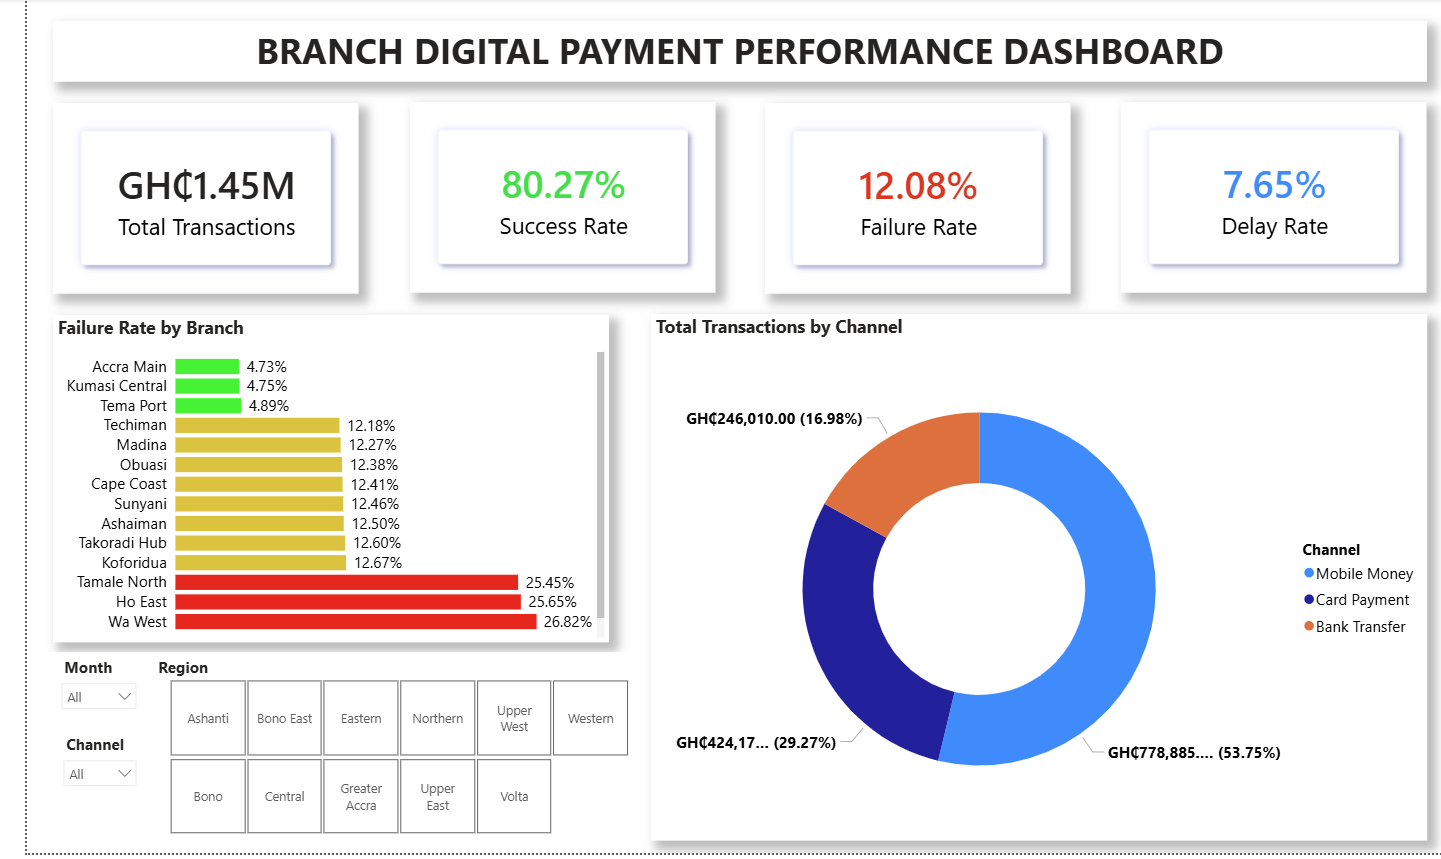

What the dashboard file says about the page in this screenshot:
{"tool":"powerbi","page":{"name":"Executive Overview","canvas":[1500,900],"ordinal":0},"visuals":[{"type":"cardVisual","fields":{"Data":["_Measures.Total Transactions"]},"box":[27.4,109.3,322.3,200.5],"z":0,"group":"g1"},{"type":"clusteredBarChart","fields":{"Category":["Raw Data.Branch"],"Y":["_Measures.Failure Rate"]},"box":[27.5,332.8,586.2,344.9],"z":0},{"type":"textbox","box":[27.4,23.2,1448,64.3],"z":1000},{"type":"cardVisual","fields":{"Data":["_Measures.Success Rate"]},"box":[403.2,108.5,322.3,200.5],"z":1000,"group":"g1"},{"type":"slicer","fields":{"Values":["Date Table.Month Name"]},"box":[26.3,688.2,99.2,81],"z":2000},{"type":"cardVisual","fields":{"Data":["_Measures.Failure Rate"]},"box":[777.2,109.3,322.3,200.5],"z":3000,"group":"g1"},{"type":"slicer","fields":{"Values":["Raw Data.Region"]},"box":[125.4,688.2,532.2,198.1],"z":3000},{"type":"slicer","fields":{"Values":["Raw Data.Channel"]},"box":[28.3,769.1,97.2,72.9],"z":4000},{"type":"cardVisual","fields":{"Data":["_Measures.Delay Rate"]},"box":[1153.1,108.5,322.3,200.5],"z":5000,"group":"g1"},{"type":"donutChart","fields":{"Category":["Channel Summary.Channel"],"Y":["_Measures.Total Transactions"]},"box":[657.8,331.9,817.7,554.6],"z":5000},{"type":"group","id":"g1","title":"Group 1","box":[27.4,108.5,1448,201.3],"z":6000}]}

Visuals, with their boxes in screenshot pixels (x1, y1, x2, y2), scaled from the page's 1500x900 canvas onto the 1441x859 screenshot:
cardVisual - _Measures.Total Transactions: <bbox>26, 104, 336, 296</bbox>
clusteredBarChart - Raw Data.Branch x _Measures.Failure Rate: <bbox>26, 318, 590, 647</bbox>
textbox: <bbox>26, 22, 1417, 84</bbox>
cardVisual - _Measures.Success Rate: <bbox>387, 104, 697, 295</bbox>
slicer - Date Table.Month Name: <bbox>25, 657, 121, 734</bbox>
cardVisual - _Measures.Failure Rate: <bbox>747, 104, 1056, 296</bbox>
slicer - Raw Data.Region: <bbox>120, 657, 632, 846</bbox>
slicer - Raw Data.Channel: <bbox>27, 734, 121, 804</bbox>
cardVisual - _Measures.Delay Rate: <bbox>1108, 104, 1417, 295</bbox>
donutChart - Channel Summary.Channel x _Measures.Total Transactions: <bbox>632, 317, 1417, 846</bbox>
"Group 1" group: <bbox>26, 104, 1417, 296</bbox>
